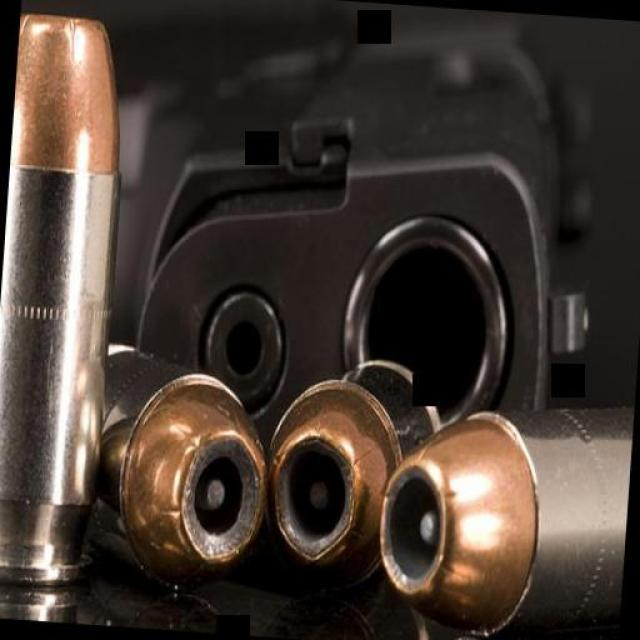gun: (0, 0, 598, 556)
